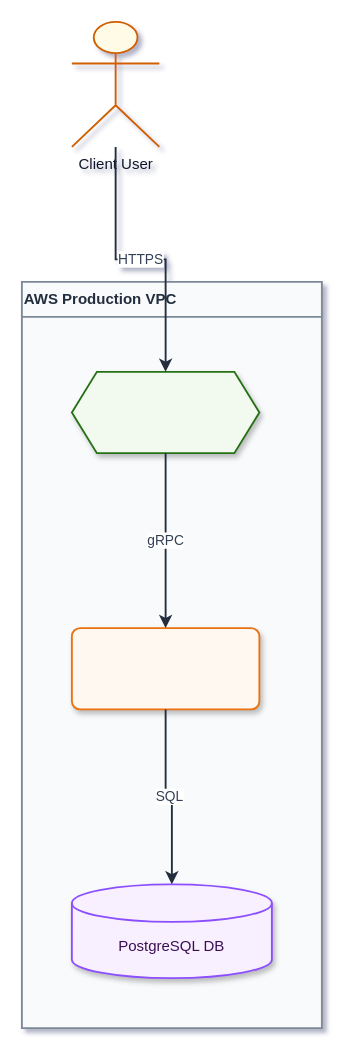
Image size: 353x1059. Some labels were removed from this diagram. Each missing label, with the centre of its shape:
API Gateway: point (166, 413)
Order Service: point (166, 670)
